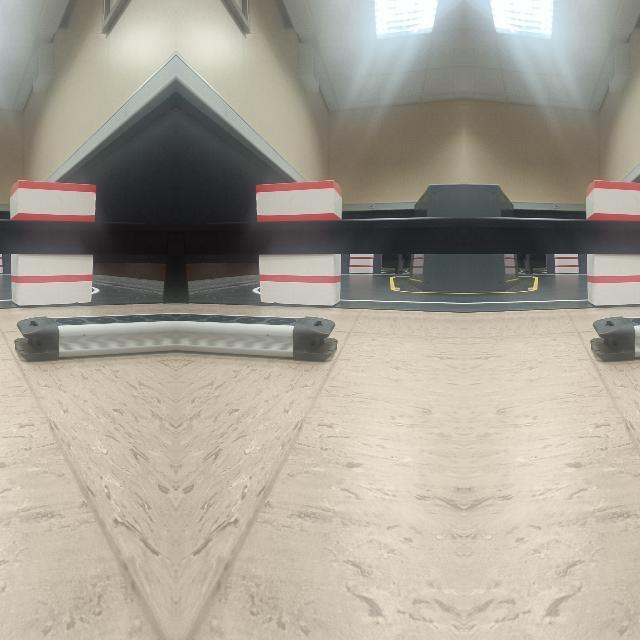obstacle: (178, 306, 338, 362), (12, 306, 172, 362), (589, 305, 640, 362)
